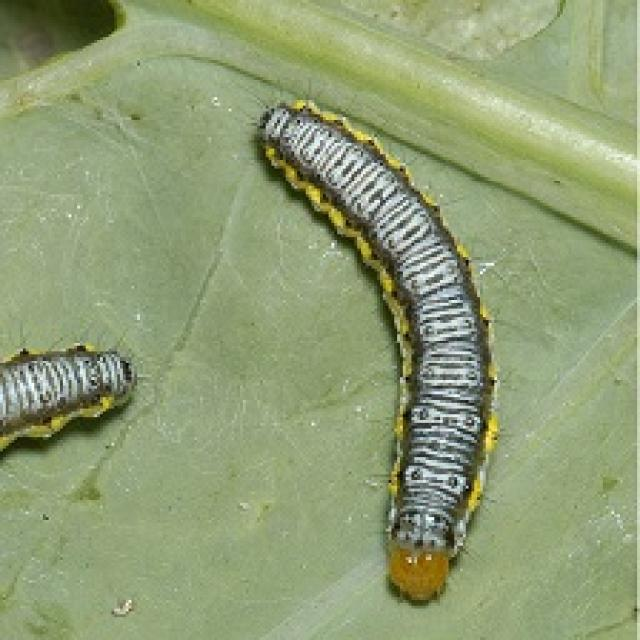Cabbage-worm: (273, 90, 508, 606), (1, 341, 147, 473)
